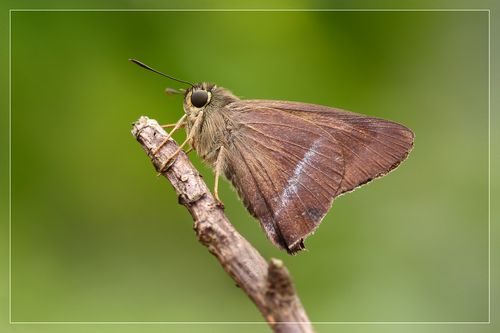Hesperiidae: (125, 52, 416, 254)
